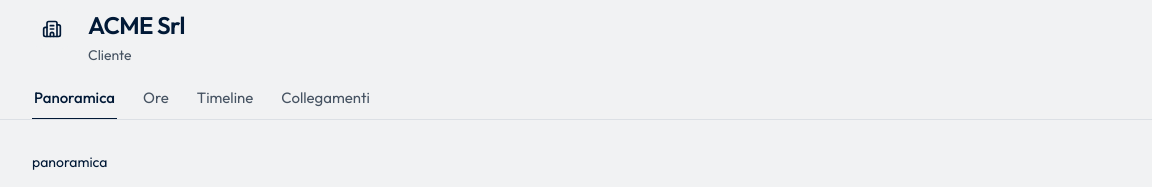
Test case: EntityDetailLayout › shows an Ore tab with its own contents when hours is given
The image size is (1152, 187).
Step 1. Click the tab "Ore" → (156, 103), box [141,87,171,120]
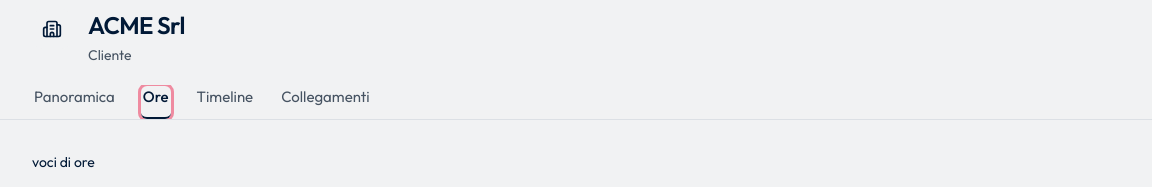
Expected: the text "voci di ore" is shown, [32,152,95,170]
